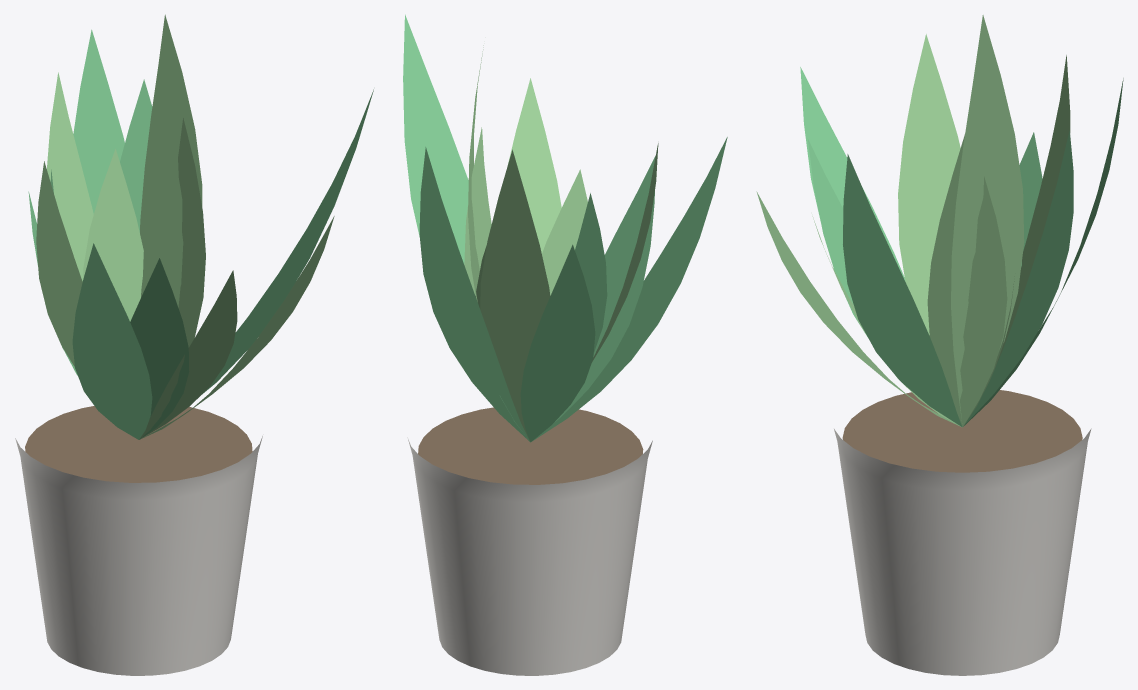
File: plant.glb
3 views of the same model, side by side, from view 1: azimuth 30°, elevation 25°; view 2: azimuth 150°, elevation 25°; view 3: azimuth 270°, elevation 25° (orthographic). The views are drawn at different scales.
Size of the model in its own units: 0.6457 by 1.23 by 0.6426.
